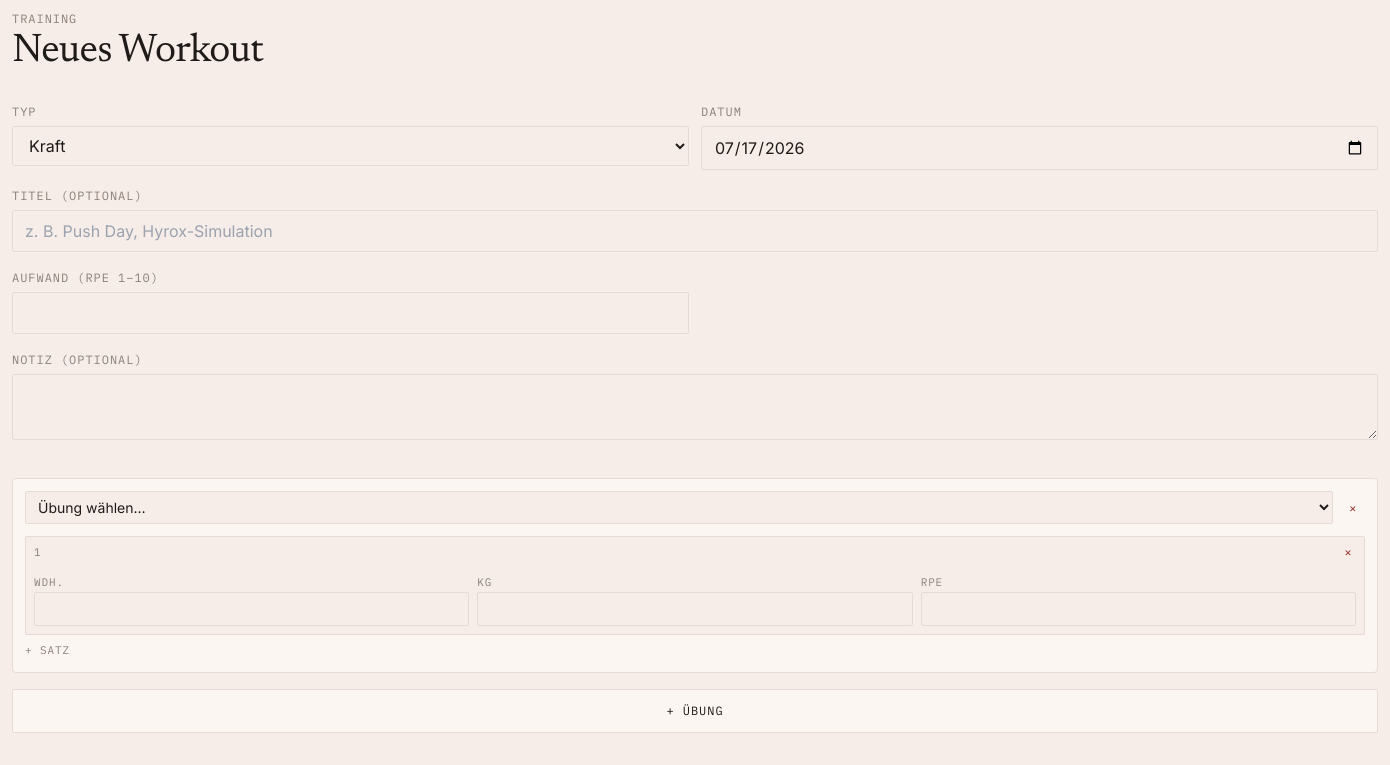
Scenario: WorkoutLogger — typspezifischer Body › Typ "cardio" zeigt Distanz-Feld (CardioLogger-Marker)
Select "Cardio" in the dropdown labelled "Typ" at (350, 146), box [12,126,689,166]
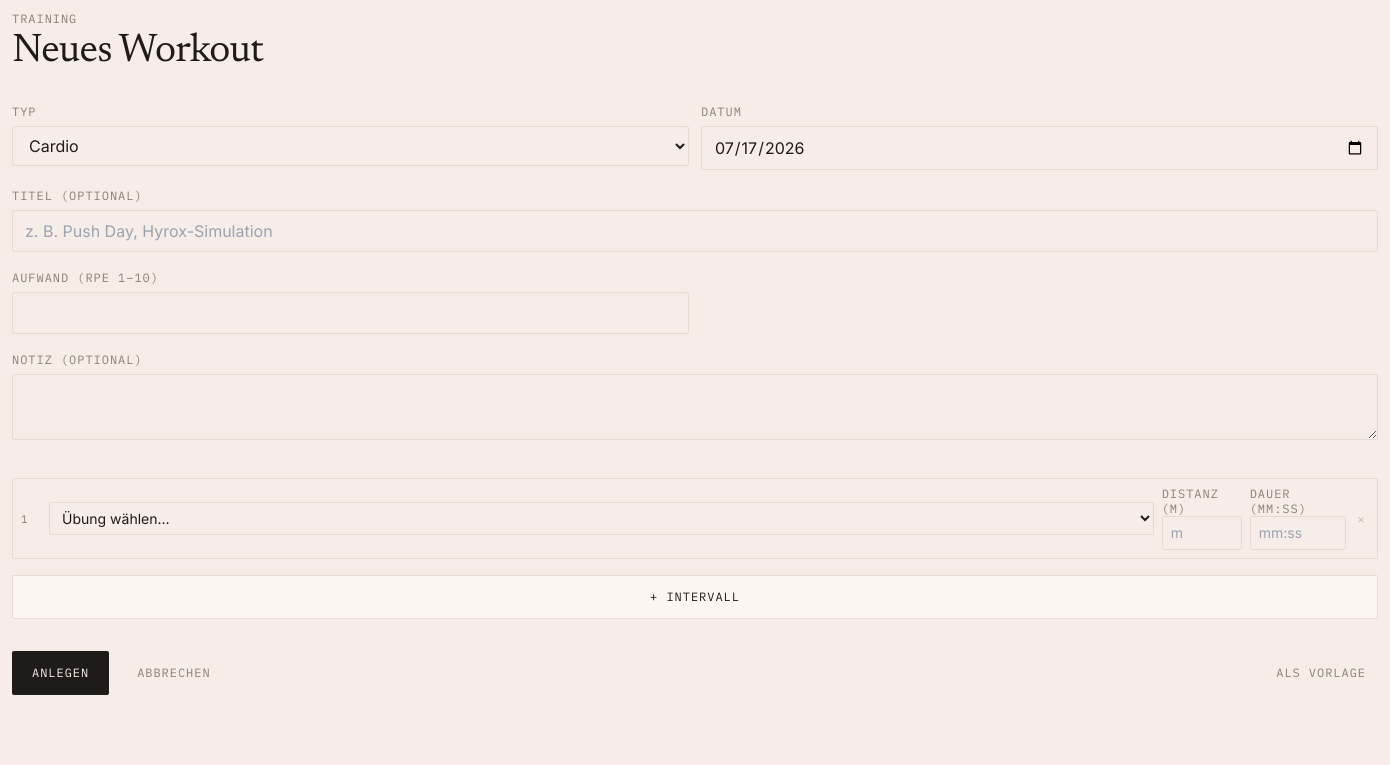
Result: the field labelled "Distanz (m)" is shown at [1162,516,1242,550]
